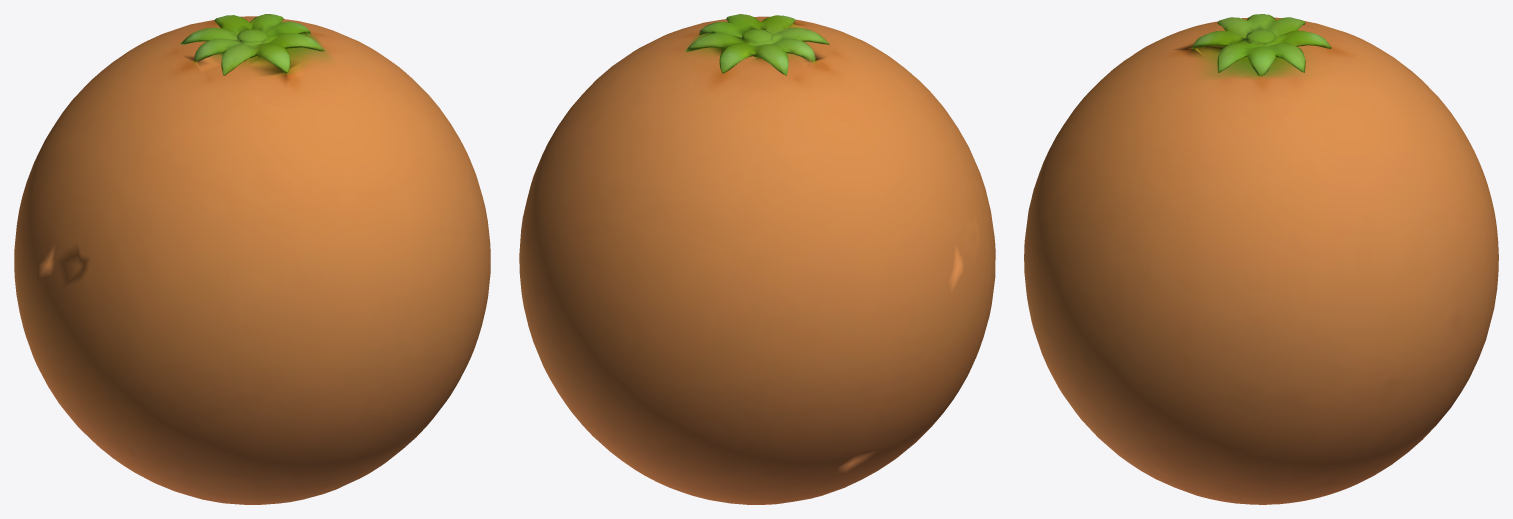
The model's file is orange.glb.
The picture shows the model from 3 angles, left to right: view 1: azimuth 30°, elevation 25°; view 2: azimuth 150°, elevation 25°; view 3: azimuth 270°, elevation 25°; orthographic projection.
Parts seen in each view (by area): view 1: material; view 2: material; view 3: material.
Boxes of the visible parts, x1,y1,x2,y2 form: material: (14, 14, 490, 504); material: (519, 14, 995, 504); material: (1024, 14, 1498, 504).
Size of the model in its own units: 1.13 by 1.18 by 1.13.
Materials: 1 (1 with a texture image).
